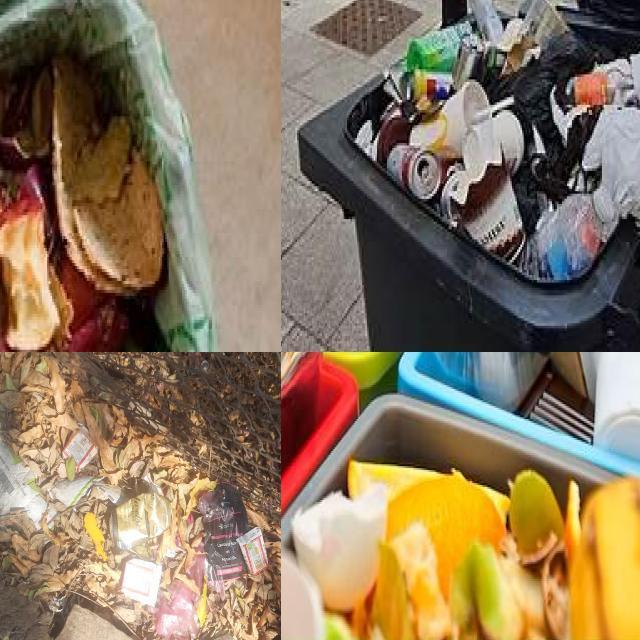Disposable: (409, 80, 490, 159), (463, 111, 524, 183)
Garbage: (281, 352, 640, 640), (350, 0, 640, 280), (0, 352, 281, 640), (0, 54, 166, 352)
Plastic_Bag: (509, 32, 611, 198), (0, 433, 47, 528), (154, 578, 200, 640), (49, 476, 127, 508), (186, 541, 225, 600), (25, 494, 48, 529), (47, 506, 57, 524)
Plastic_Straw: (490, 97, 514, 114)
Plastic_bottle: (526, 188, 618, 280), (407, 21, 472, 73), (566, 59, 635, 106)
Tetrapack: (121, 558, 162, 606), (62, 425, 98, 472), (236, 526, 268, 575)
can: (110, 492, 172, 551), (387, 143, 442, 200)
